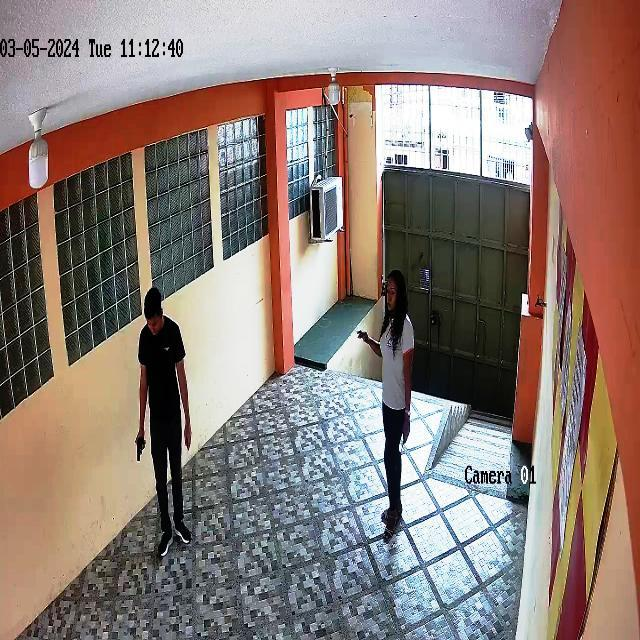Gun: (125, 432, 157, 472)
